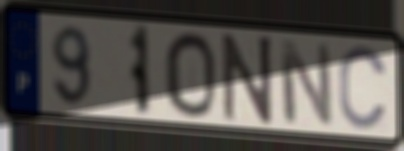1: (127, 21, 153, 120)
9: (48, 23, 98, 108)
C: (337, 43, 391, 133)
N: (276, 37, 336, 129), (219, 31, 276, 126)
O: (161, 29, 218, 120)
